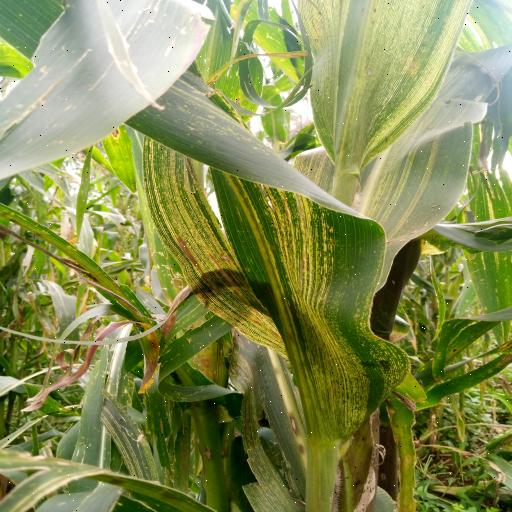Corn_Streak: (76, 61, 399, 508), (310, 0, 478, 161)
